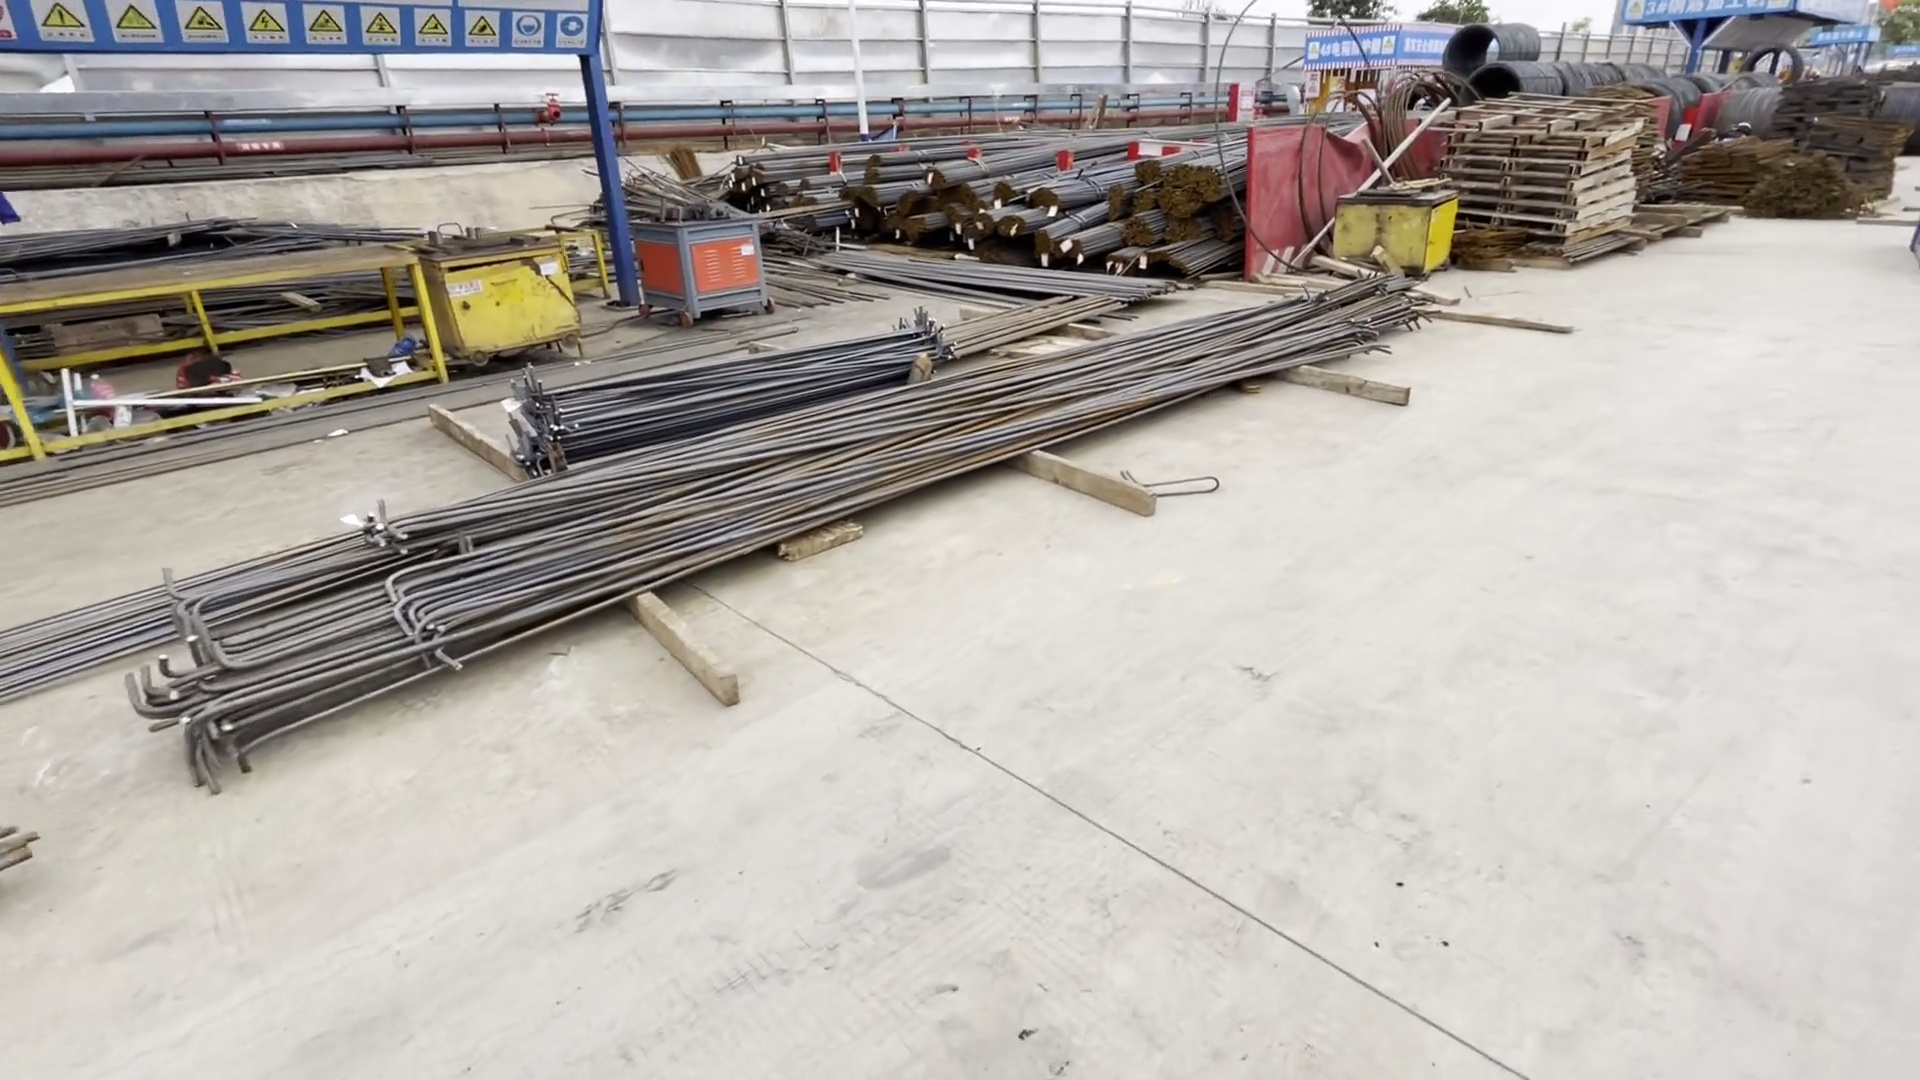rebar: (1, 269, 1425, 836), (705, 133, 1258, 291)
slogan: (1, 3, 592, 65)
